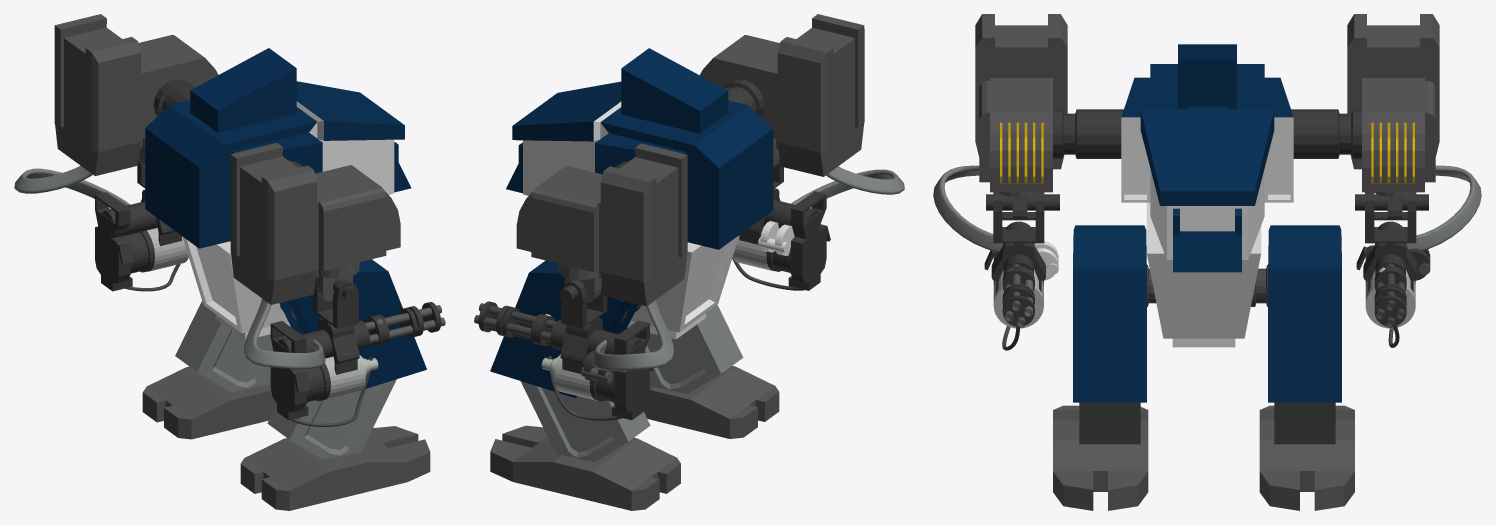
File: pulimet mex.fbx
The picture shows the model from 3 angles, left to right: view 1: azimuth 30°, elevation 25°; view 2: azimuth 150°, elevation 25°; view 3: azimuth 270°, elevation 25°; orthographic projection. The views are drawn at different scales.
Visible parts, largest first — view 1: Cube.001, Cube, Cube.012, Cube.011, Cube.008, Cube.010, Cube.006, BézierCurve.002, Cube.005, Cube.007, Cube.009, Cylinder.016 (+9 smaller); view 2: Cube.001, Cube, Cube.012, Cube.011, Cube.008, Cube.010, Cube.006, BézierCurve.002, Cube.009, Cube.004, Cube.005, Cylinder (+6 smaller); view 3: Cube.001, Cube.010, Cube, Cube.012, Cube.006, Cylinder.031, Cube.011, BézierCurve.002, Cube.008, Cube.002, Cube.004, Cube.007 (+6 smaller).
Part boxes in pixels (<box>): Cube.001: <box>54,14,400,304</box>; Cube: <box>145,81,404,248</box>; Cube.012: <box>142,366,430,510</box>; Cube.011: <box>175,301,396,459</box>; Cube.008: <box>190,48,296,132</box>; Cube.010: <box>279,259,426,396</box>; Cube.006: <box>182,236,290,340</box>; BézierCurve.002: <box>14,165,325,368</box>; Cube.005: <box>95,192,134,291</box>; Cube.007: <box>313,278,359,374</box>; Cube.009: <box>270,321,310,420</box>; Cylinder.016: <box>323,354,378,400</box>; Cube.001: <box>516,14,864,306</box>; Cube: <box>512,81,773,249</box>; Cube.012: <box>490,366,779,510</box>; Cube.011: <box>520,305,743,461</box>; Cube.008: <box>621,48,728,133</box>; Cube.010: <box>490,260,638,397</box>; Cube.006: <box>627,235,739,339</box>; BézierCurve.002: <box>592,166,904,370</box>; Cube.009: <box>788,191,830,290</box>; Cube.004: <box>560,279,607,373</box>; Cube.005: <box>612,320,653,420</box>; Cylinder: <box>541,354,596,400</box>; Cube.001: <box>975,14,1439,192</box>; Cube.010: <box>1073,225,1341,402</box>; Cube: <box>1121,64,1293,259</box>; Cube.012: <box>1053,405,1354,510</box>; Cube.006: <box>1146,202,1261,347</box>; Cylinder.031: <box>1053,109,1361,158</box>; Cube.011: <box>1079,402,1335,444</box>; BézierCurve.002: <box>933,165,1481,252</box>; Cube.008: <box>1178,44,1236,108</box>; Cube.002: <box>1173,208,1241,272</box>; Cube.004: <box>1363,192,1417,292</box>; Cube.007: <box>991,192,1045,292</box>.
Size of the model in its own units: 560 by 781 by 958.
